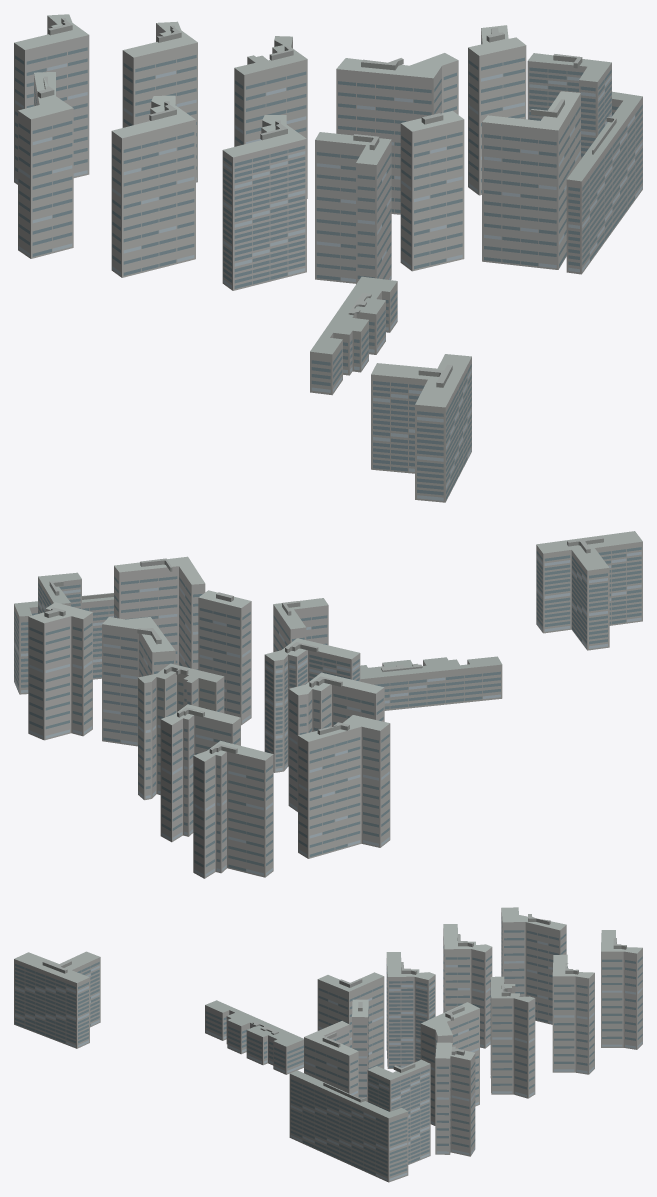
The model's file is apt-a10026881.glb.
3 renders of one model, top to bottom at view 1: azimuth 30°, elevation 25°; view 2: azimuth 150°, elevation 25°; view 3: azimuth 270°, elevation 25°, orthographic. The views are drawn at different scales.
Parts seen in each view (by area): view 1: apt-a10026881; view 2: apt-a10026881; view 3: apt-a10026881.
Boxes of the visible parts, box(x1,y1,x2,y2) form: apt-a10026881: box(14, 14, 642, 502); apt-a10026881: box(14, 531, 642, 878); apt-a10026881: box(14, 907, 642, 1182).
Bounding box in the file's own units: 273 × 71 × 406.
